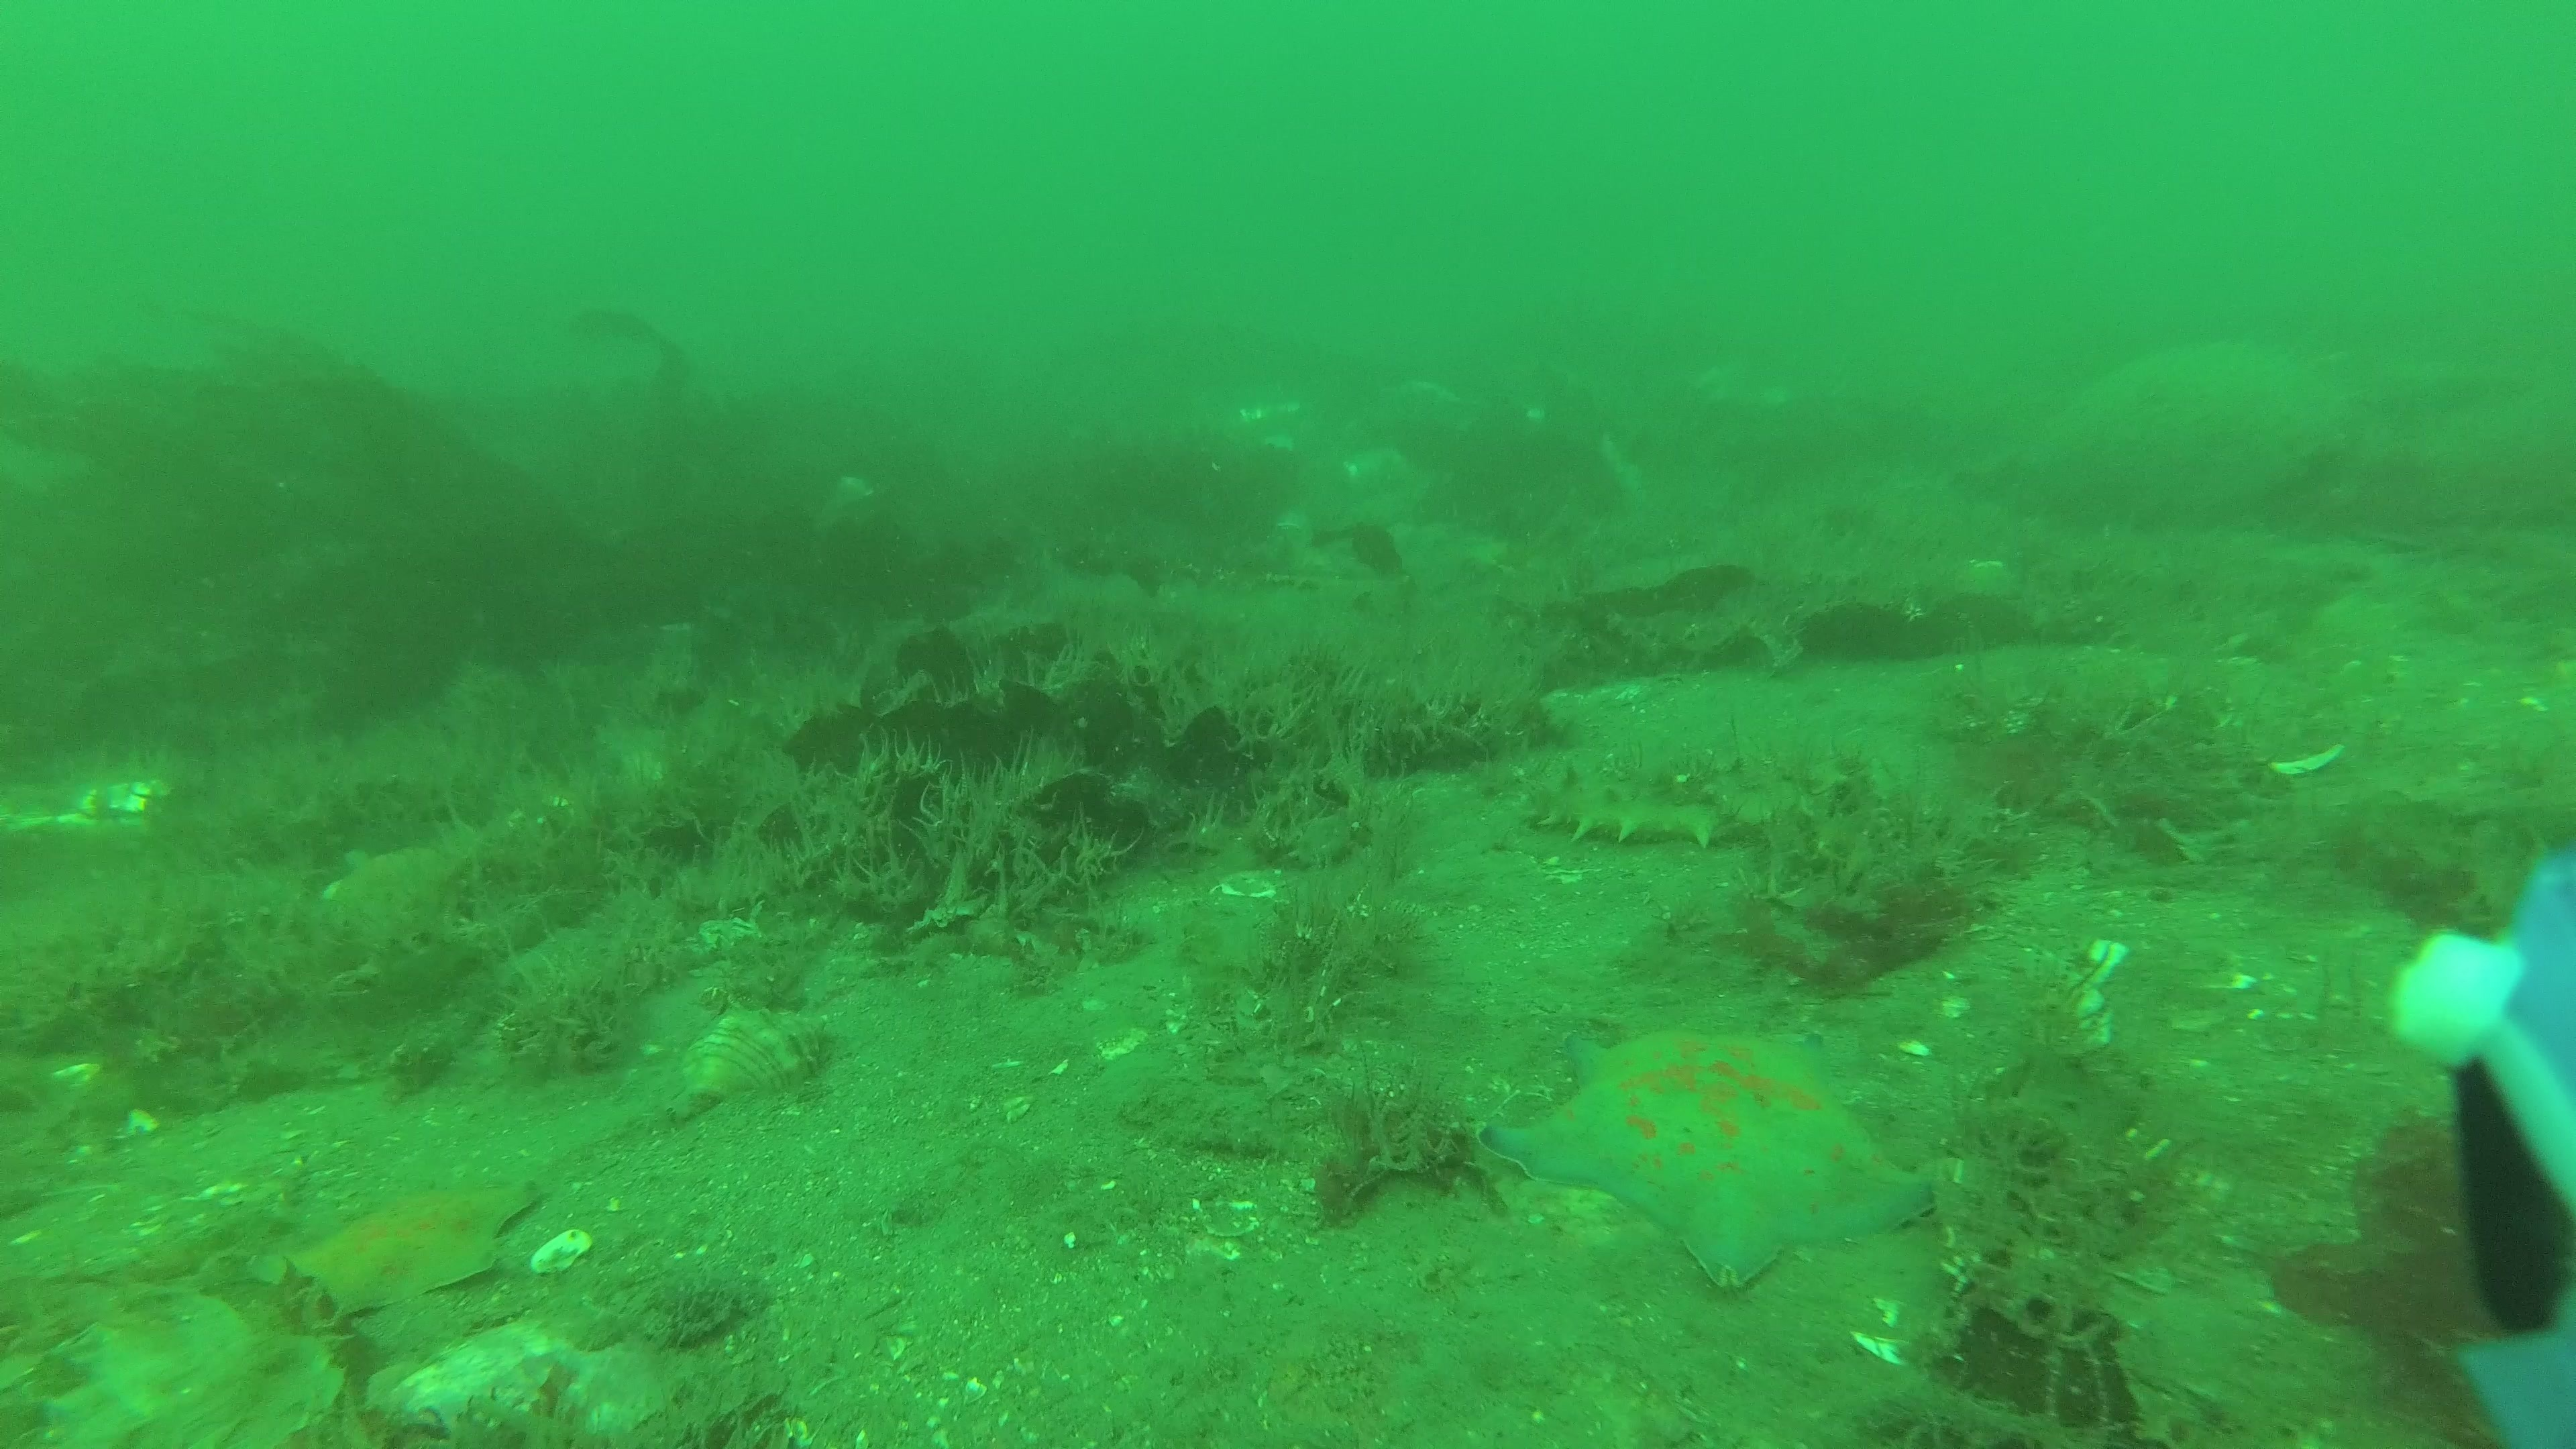holothurian: (1522, 763, 1826, 847)
scallop: (1927, 697, 2038, 741)
starfish: (1476, 1024, 1936, 1288), (267, 1184, 543, 1322)
